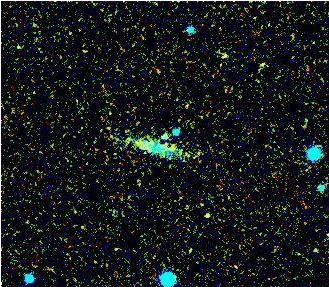star: (190, 199, 220, 229)
